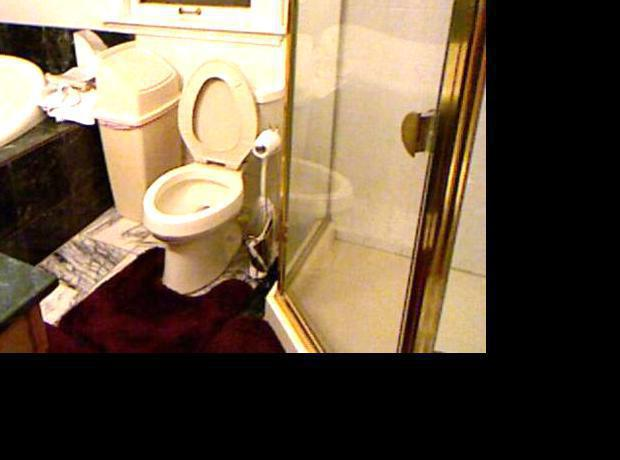Bote de Basura: (91, 40, 185, 228)
Ducha: (290, 0, 484, 349)
Sanitario: (141, 58, 283, 297)
